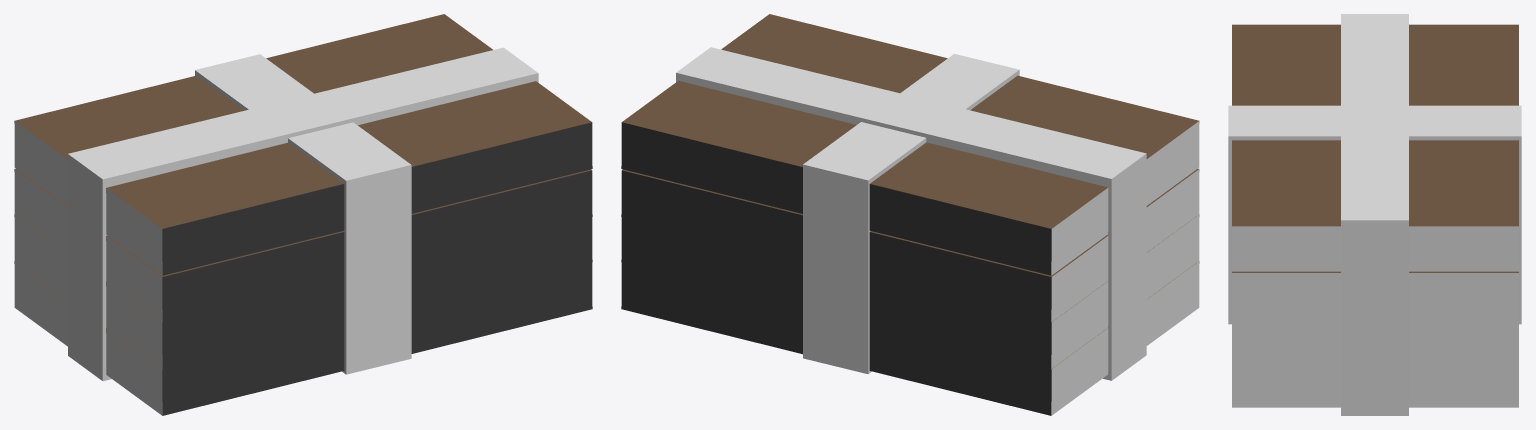
File: book_tied.glb
The picture shows the model from 3 angles, left to right: view 1: azimuth 30°, elevation 25°; view 2: azimuth 150°, elevation 25°; view 3: azimuth 270°, elevation 25°; orthographic projection. The views are drawn at different scales.
Visible parts, largest first — view 1: book_tied; view 2: book_tied; view 3: book_tied.
Boxes of the visible parts, left/top/right/bottom form: book_tied: left=14, top=14, right=592, bottom=415; book_tied: left=621, top=14, right=1199, bottom=415; book_tied: left=1228, top=14, right=1521, bottom=415.
Size of the model in its own units: 0.4563 by 0.202 by 0.2745.
